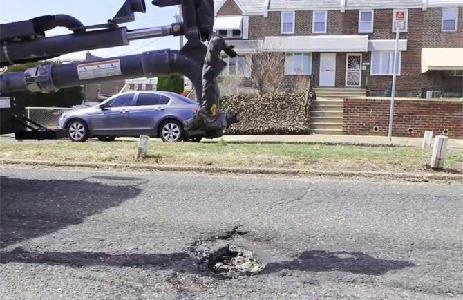pothole: (183, 226, 274, 282)
